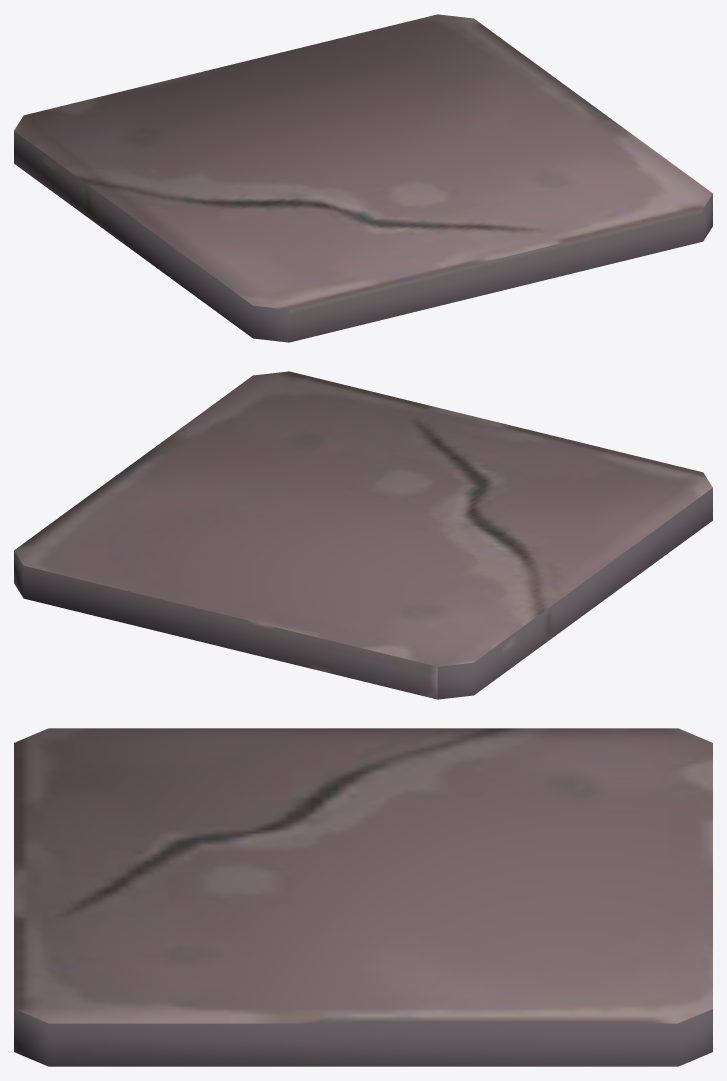
Rendered from DecoFloorTile7_1.fbx.
The picture shows the model from 3 angles, top to bottom: view 1: azimuth 30°, elevation 25°; view 2: azimuth 150°, elevation 25°; view 3: azimuth 270°, elevation 25°; orthographic projection. The views are drawn at different scales.
Visible parts, largest first — view 1: Stoneplate01; view 2: Stoneplate01; view 3: Stoneplate01.
Part boxes in pixels (left/top/right/bottom): Stoneplate01: left=14, top=14, right=712, bottom=342; Stoneplate01: left=14, top=371, right=712, bottom=699; Stoneplate01: left=14, top=728, right=712, bottom=1066.
Size of the model in its own units: 1.13 by 0.077 by 1.13.
